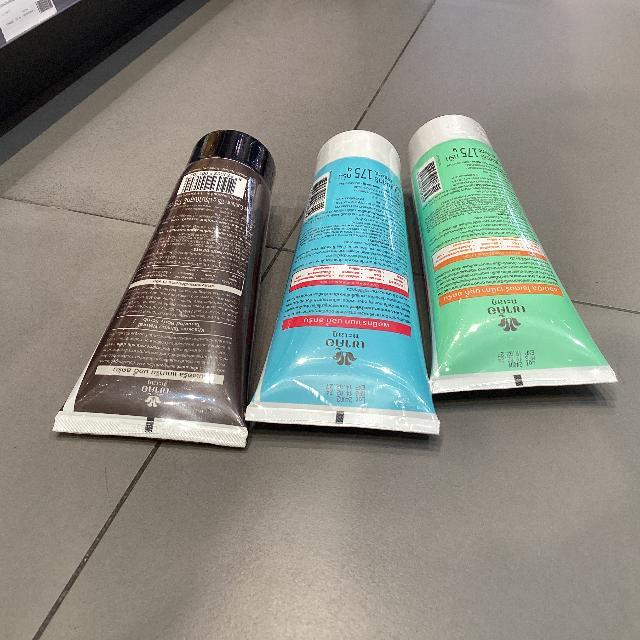Squeeze Tube: (43, 83, 640, 486), (45, 124, 294, 461), (397, 109, 633, 402), (240, 129, 462, 437)
